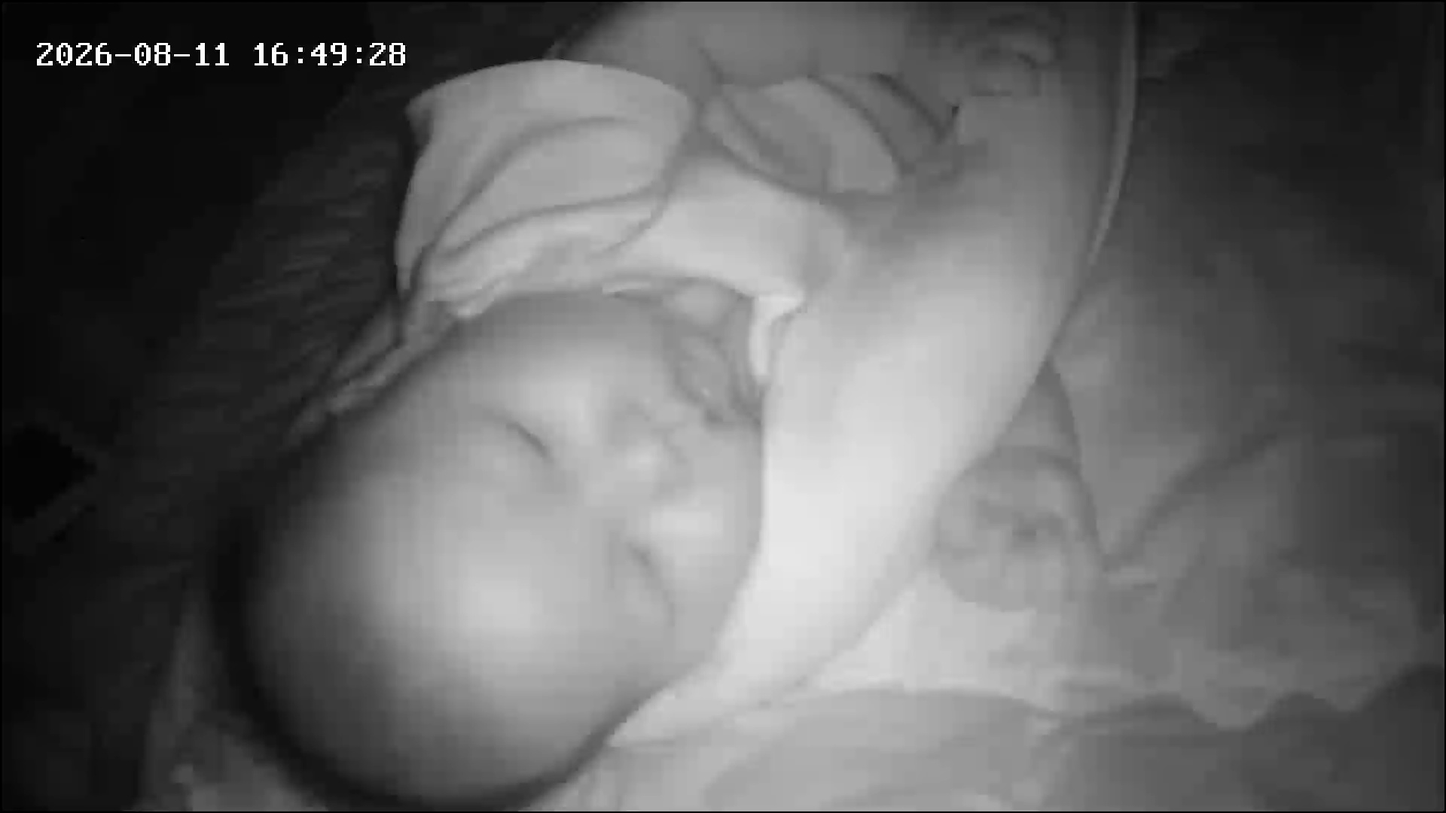baby: (211, 3, 879, 808)
baby_face: (211, 289, 778, 808)
